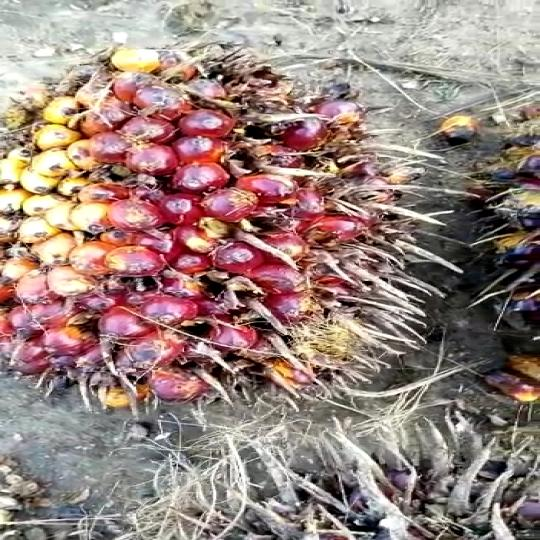masak: (0, 52, 431, 428)
